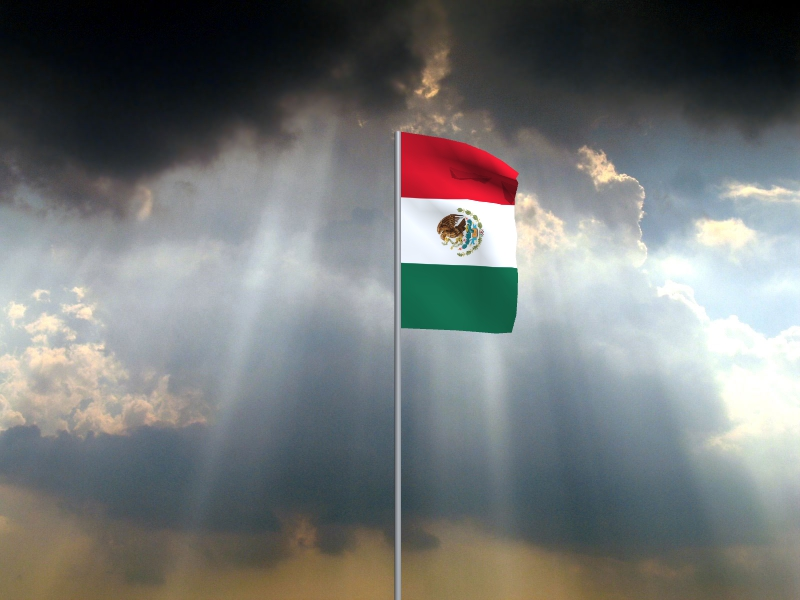mx: (401, 133, 521, 335)
